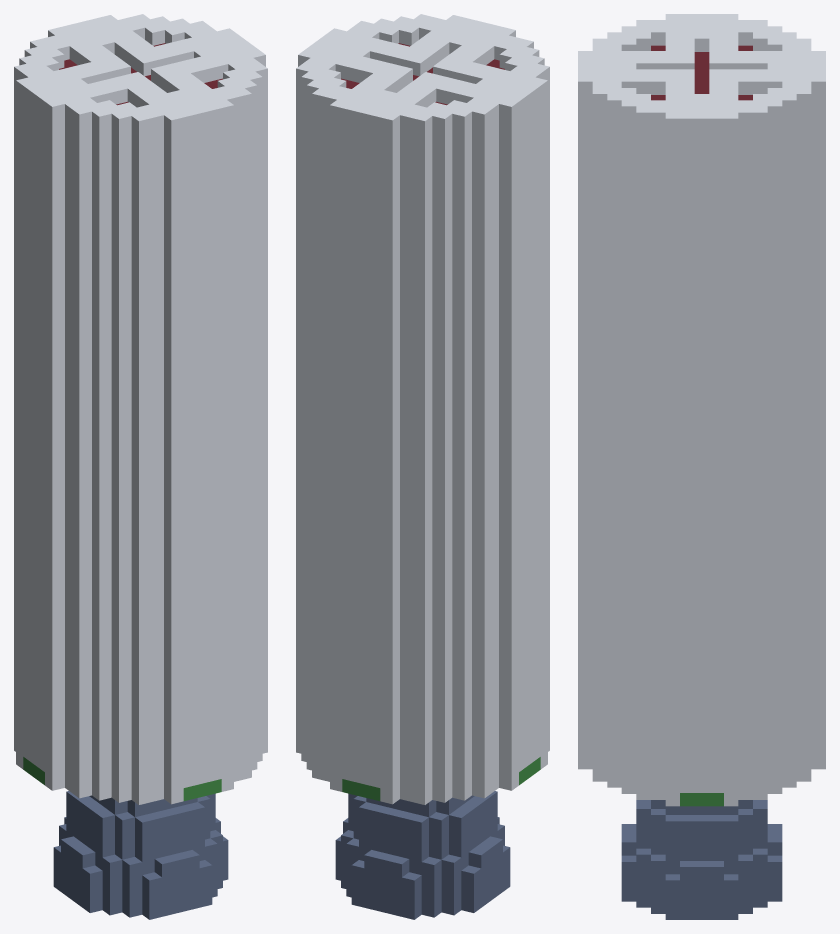
Rendered from Sun_V_second_stage.glb.
The picture shows the model from 3 angles, left to right: view 1: azimuth 30°, elevation 25°; view 2: azimuth 150°, elevation 25°; view 3: azimuth 270°, elevation 25°; orthographic projection.
Parts seen in each view (by area): view 1: ObjObject.036; view 2: ObjObject.036; view 3: ObjObject.036.
Part boxes in pixels (x1,y1,x2,y2): ObjObject.036: [14, 14, 267, 919]; ObjObject.036: [296, 14, 549, 919]; ObjObject.036: [578, 14, 825, 919].
Size of the model in its own units: 1.7 by 6.2 by 1.7.
1 material, 1 textured.
